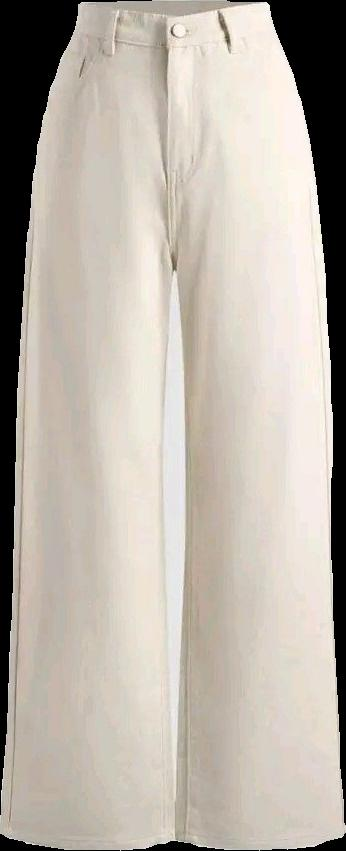Hemline: (0, 826, 182, 850), (173, 828, 345, 850)
Pantleg: (163, 0, 344, 848), (0, 0, 178, 848)
Waistline: (71, 24, 277, 55), (73, 0, 268, 20)
